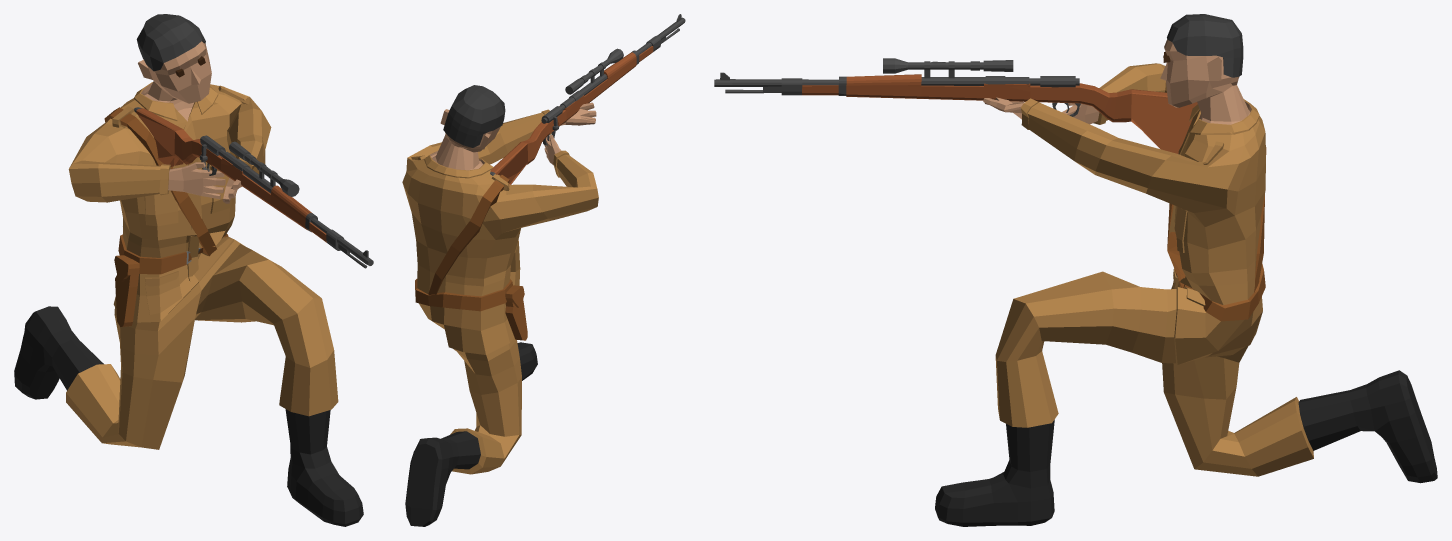
The model's file is PejuangSRf dd.fbx.
3 renders of one model, left to right at view 1: azimuth 30°, elevation 25°; view 2: azimuth 150°, elevation 25°; view 3: azimuth 270°, elevation 25°, orthographic. The views are drawn at different scales.
Parts seen in each view (by area): view 1: Sniper; view 2: Sniper; view 3: Sniper.
Boxes of the visible parts, <box> form: Sniper: <box>14,14,373,526</box>; Sniper: <box>402,14,685,526</box>; Sniper: <box>714,14,1437,526</box>.
Size of the model in its own units: 65 by 134 by 182.
